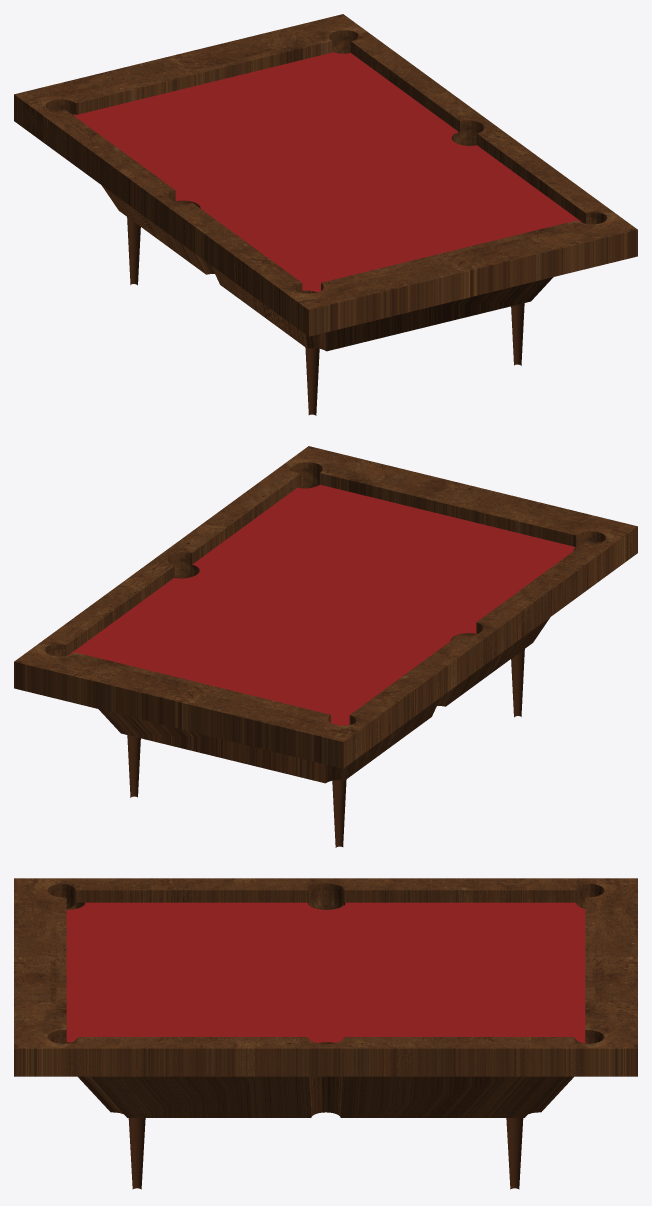
File: billiard.fbx
The picture shows the model from 3 angles, top to bottom: view 1: azimuth 30°, elevation 25°; view 2: azimuth 150°, elevation 25°; view 3: azimuth 270°, elevation 25°; orthographic projection. The views are drawn at different scales.
Parts seen in each view (by area): view 1: Plane.001, Plane, Circle.003; view 2: Plane.001, Plane, Circle.003; view 3: Plane, Plane.001, Circle.003.
Part boxes in pixels (left/top/right/bottom): Plane.001: left=73, top=52, right=581, bottom=292; Plane: left=14, top=14, right=637, bottom=351; Circle.003: left=127, top=217, right=524, bottom=415; Plane.001: left=69, top=484, right=575, bottom=725; Plane: left=14, top=446, right=637, bottom=783; Circle.003: left=127, top=649, right=524, bottom=847; Plane: left=14, top=878, right=637, bottom=1117; Plane.001: left=66, top=902, right=587, bottom=1042; Circle.003: left=128, top=1118, right=523, bottom=1189.
Bounding box in the file's own units: 573 × 273 × 888.
2 materials, 1 textured.
